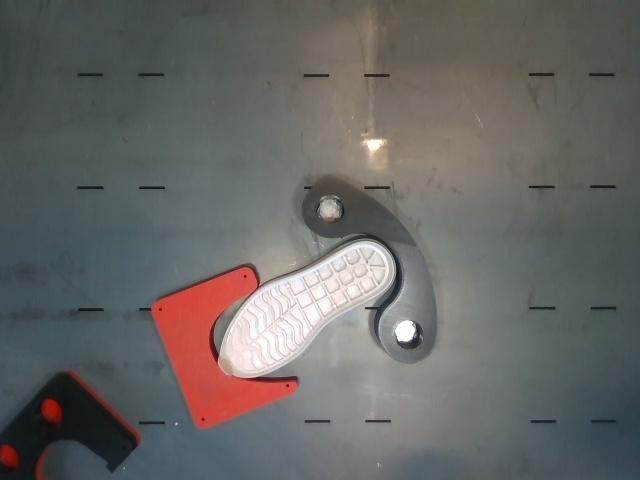shoes: (218, 243, 394, 377)
